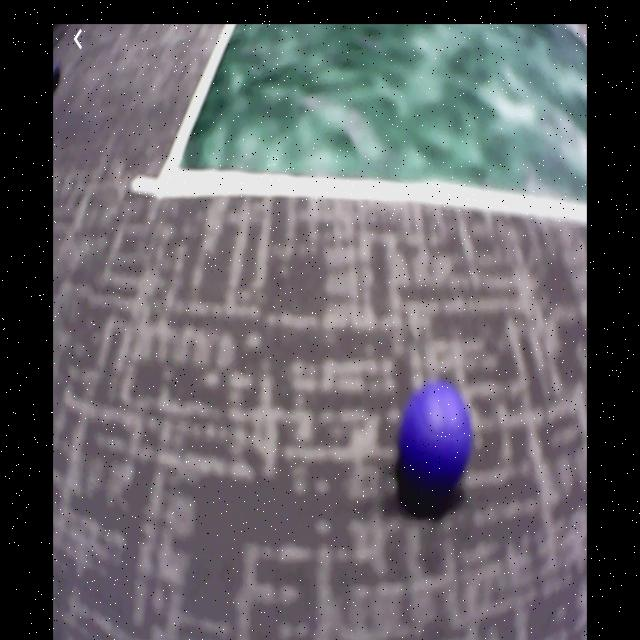ball: (400, 382, 473, 500)
